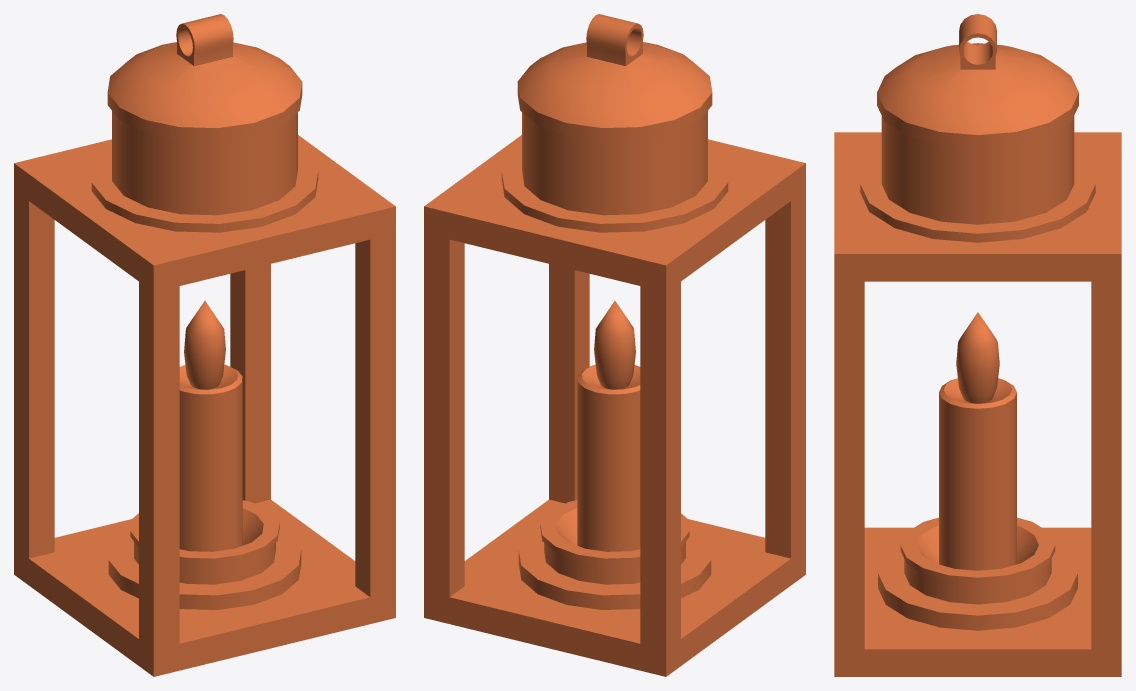
File: Lantern.fbx
The picture shows the model from 3 angles, left to right: view 1: azimuth 30°, elevation 25°; view 2: azimuth 150°, elevation 25°; view 3: azimuth 270°, elevation 25°; orthographic projection. The views are drawn at different scales.
Parts seen in each view (by area): view 1: Plane; view 2: Plane; view 3: Plane.
Boxes of the visible parts, bbox=[...] form: Plane: bbox=[14, 14, 395, 676]; Plane: bbox=[424, 14, 805, 676]; Plane: bbox=[834, 14, 1121, 676].
Bounding box in the file's own units: 0.1884 × 0.4284 × 0.1884.
